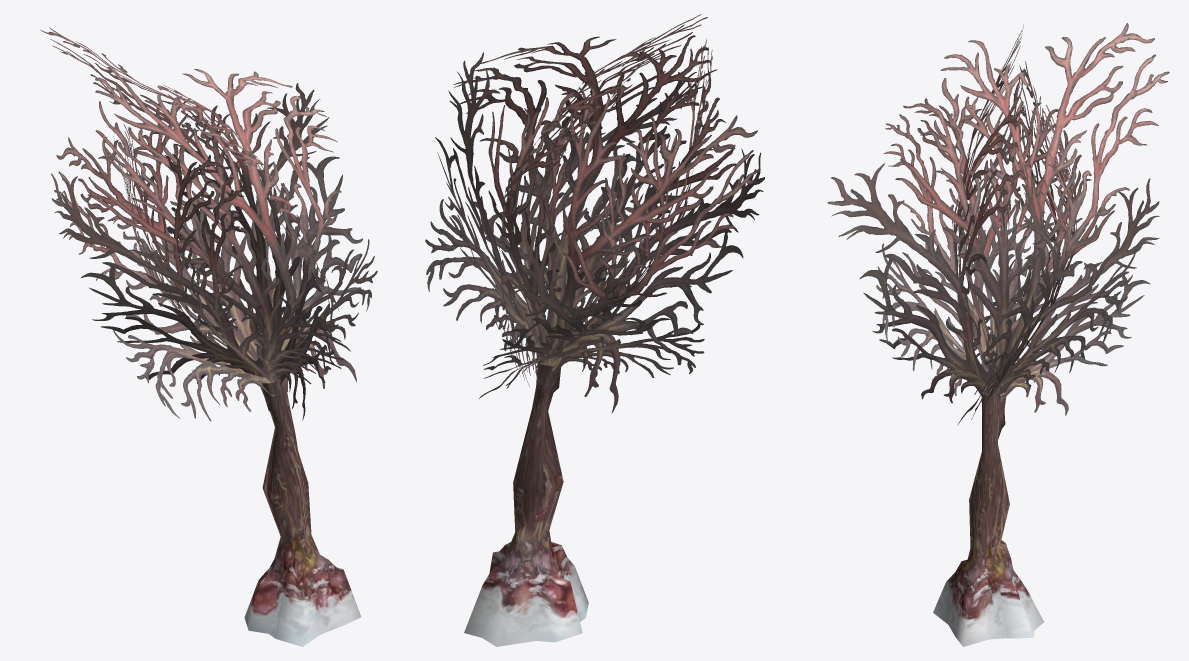
Rendered from dragonblight_treeinfected01.obj.
The picture shows the model from 3 angles, left to right: view 1: azimuth 30°, elevation 25°; view 2: azimuth 150°, elevation 25°; view 3: azimuth 270°, elevation 25°; orthographic projection. The views are drawn at different scales.
Parts seen in each view (by area): view 1: Geoset1, Geoset0; view 2: Geoset1, Geoset0; view 3: Geoset1, Geoset0.
Boxes of the visible parts, box(x1,y1,x2,y2) form: Geoset1: box(40, 27, 377, 421); Geoset0: box(244, 379, 361, 646); Geoset1: box(425, 14, 764, 413); Geoset0: box(464, 363, 588, 646); Geoset1: box(827, 23, 1169, 425); Geoset0: box(933, 393, 1043, 646).
Size of the model in its own units: 16.76 by 28.78 by 17.93.
Materials: 2 (2 with a texture image).
